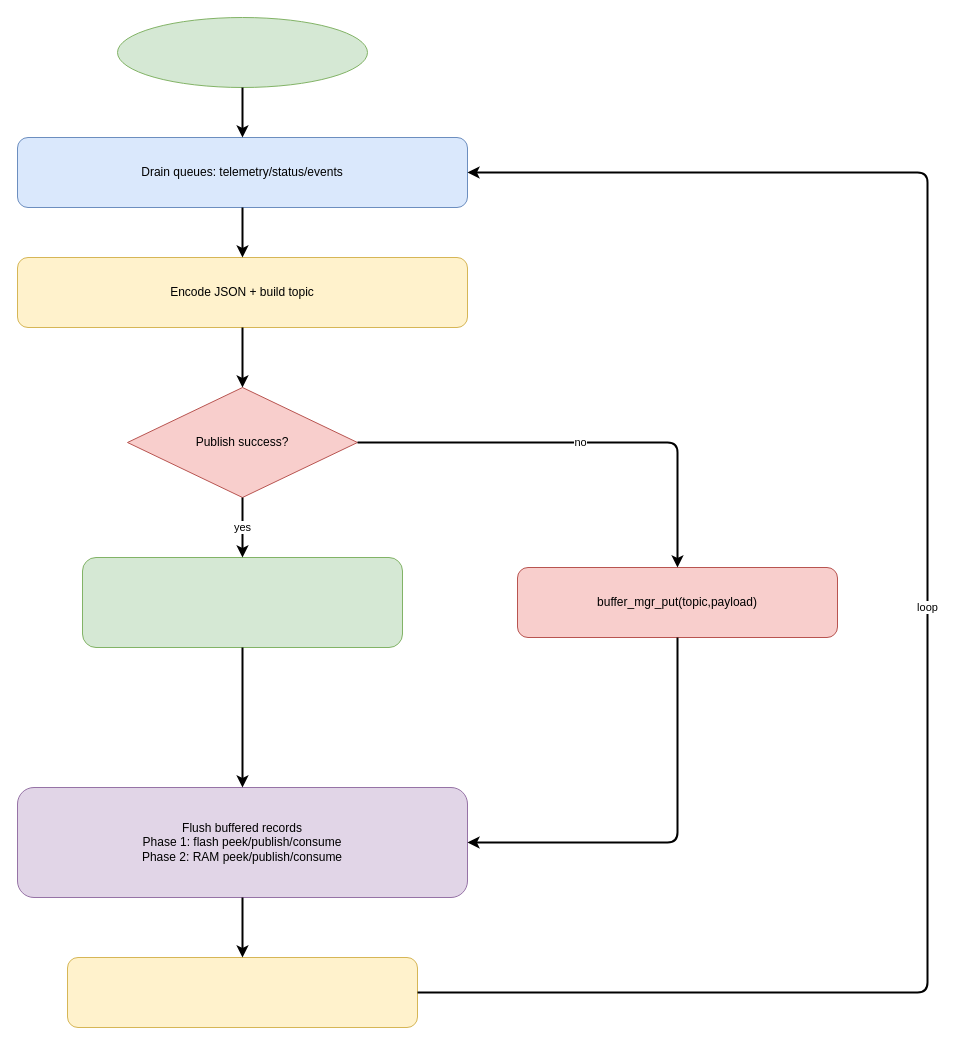
This 955x1045 diagram has some shape labels left out. The centre of each missing label's shape, as x and y in pixels:
metrics_inc_mqtt_pub_ok() continue drain: point (242, 602)
Publish metrics if due: point (242, 992)
Start mqtt_gw_task loop: point (242, 52)
